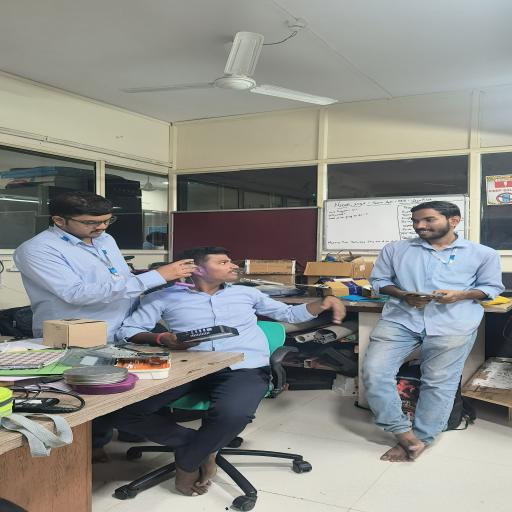survivor: (92, 246, 347, 498), (358, 200, 506, 463), (13, 190, 198, 340)
